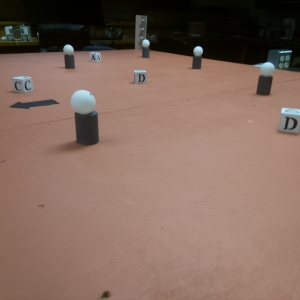blockA: (89, 52, 101, 62)
blockC: (12, 77, 34, 94)
blockD: (279, 106, 300, 136), (133, 69, 148, 83)
corner: (134, 13, 147, 49)
obstacle: (71, 89, 101, 147), (255, 61, 276, 96), (63, 42, 76, 71), (191, 44, 205, 69), (142, 40, 151, 58)
start: (9, 96, 59, 110)
